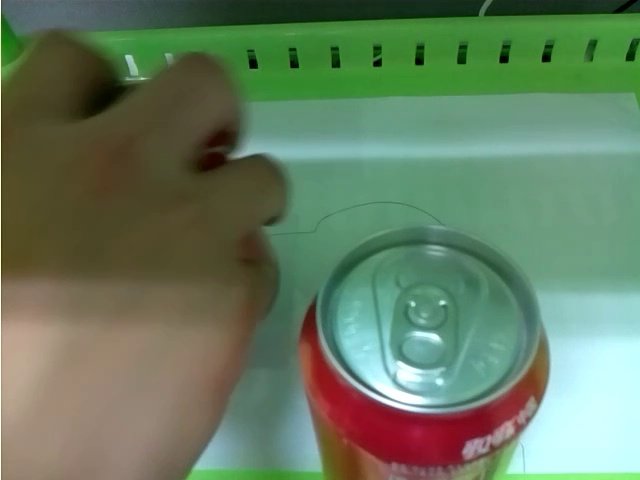cocacola: (299, 224, 551, 480)
hand: (3, 32, 286, 479)
